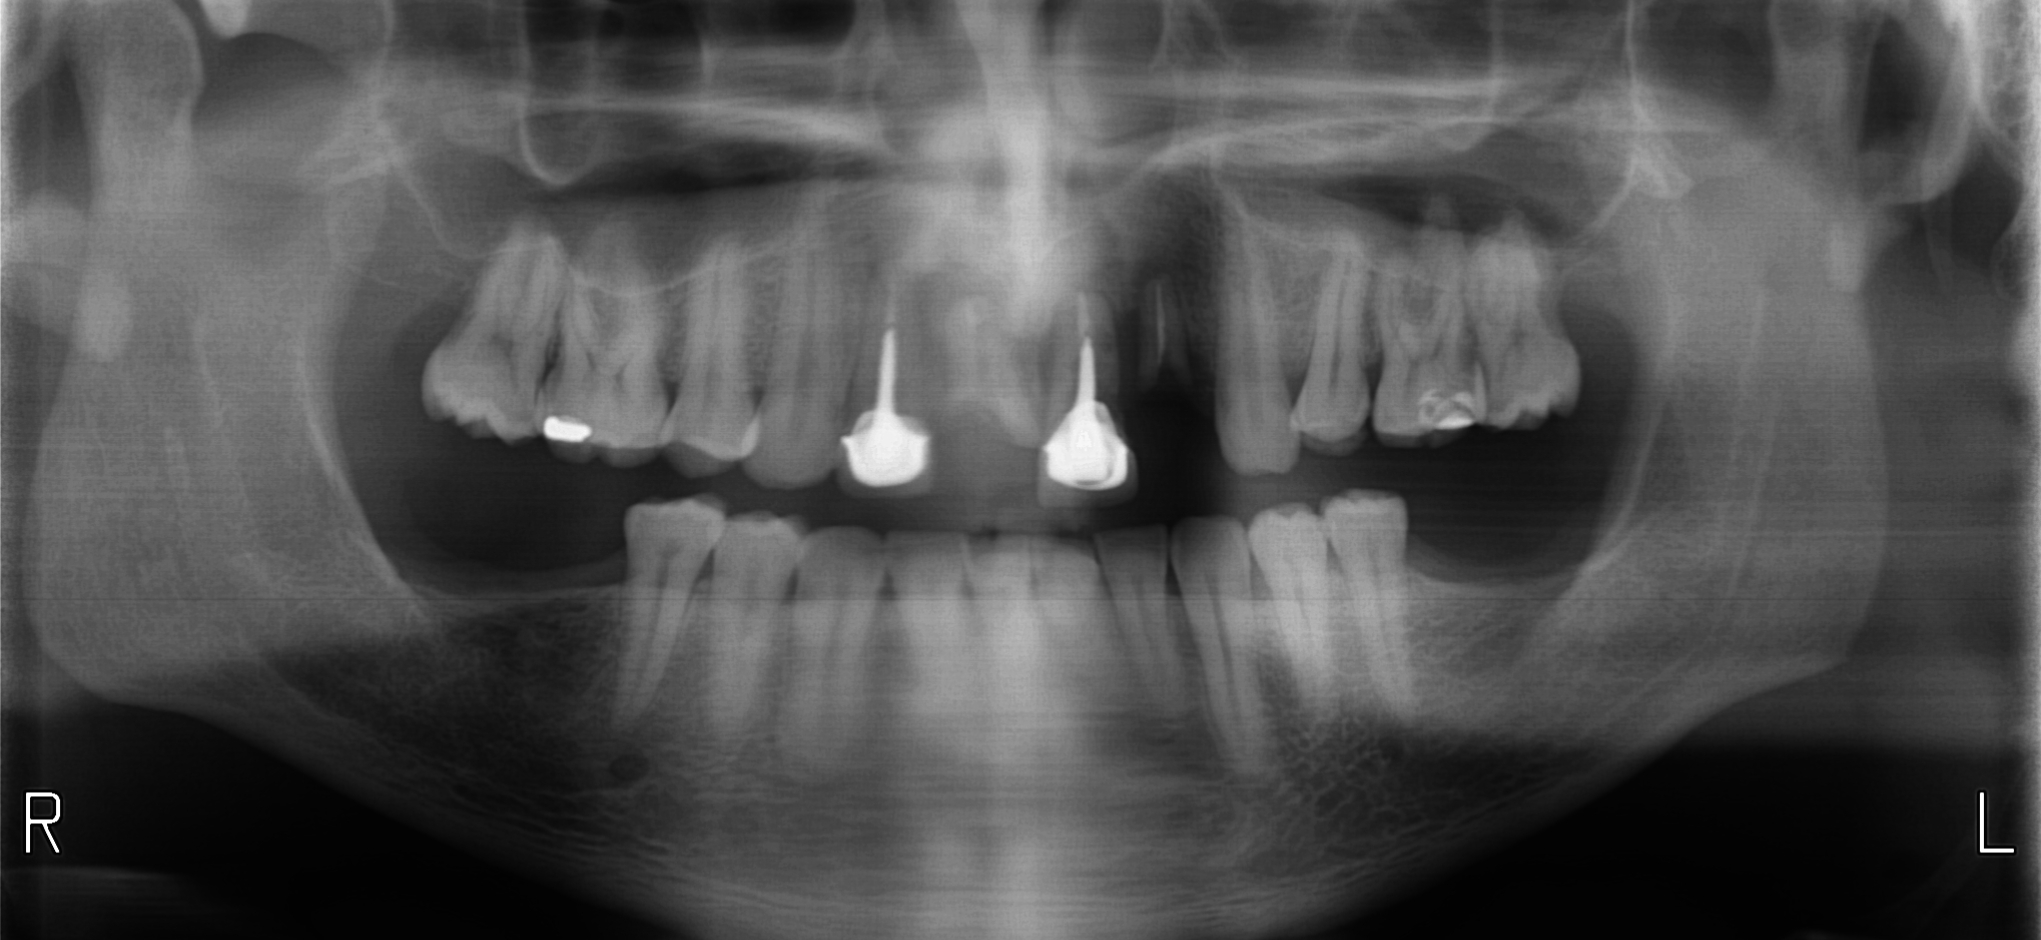cavity: (541, 348, 565, 394), (1462, 327, 1479, 370)
